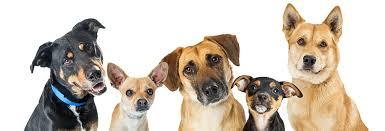Dog: (157, 25, 240, 104), (28, 18, 107, 94), (280, 2, 345, 75), (107, 60, 167, 114), (237, 63, 289, 113)
